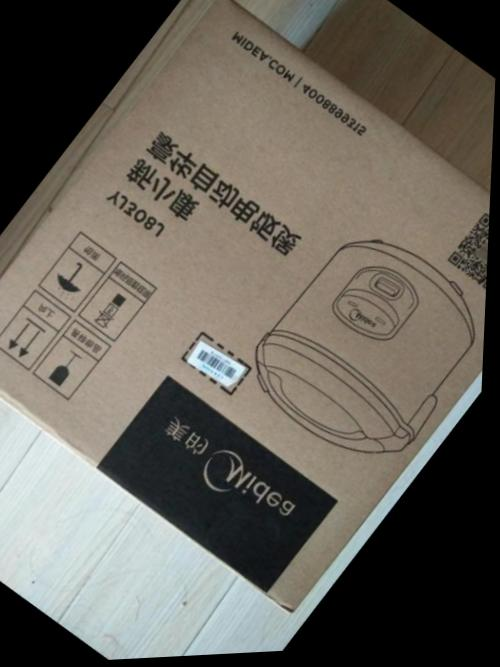cardboard: (0, 0, 500, 643)
